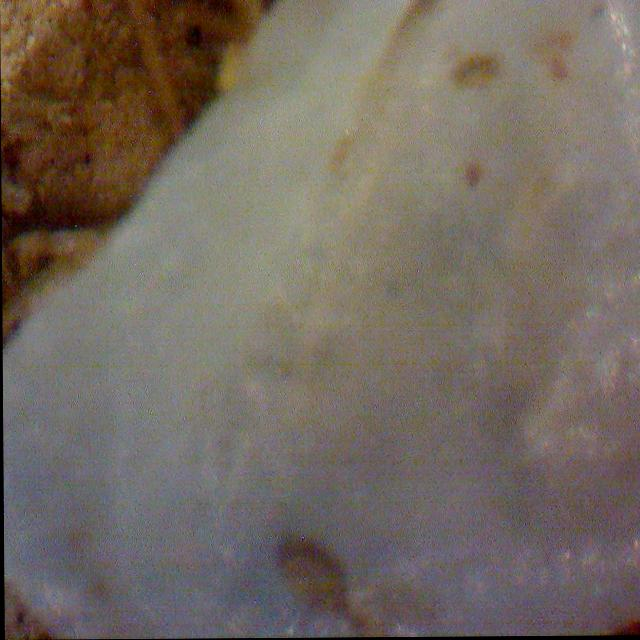microplastic: (2, 0, 640, 640)
